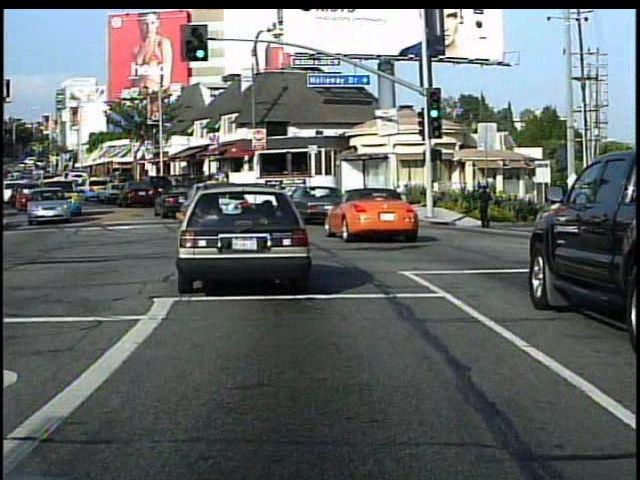person: (563, 184, 586, 246), (473, 182, 495, 229)
